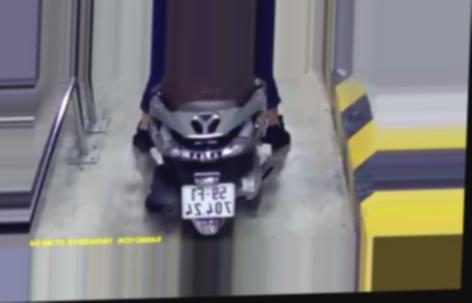License_Plate: (175, 179, 241, 226)
